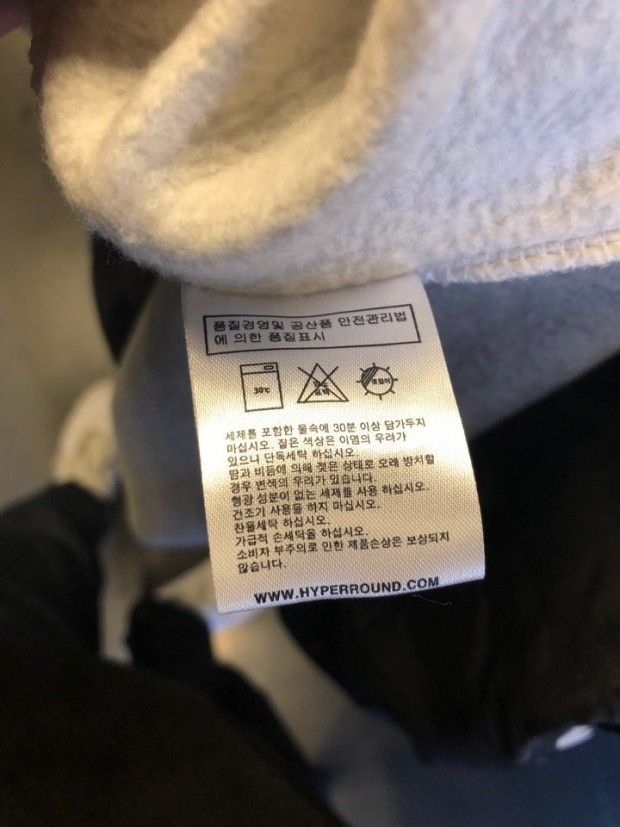KR_hang_dry_in_shade: (352, 359, 402, 404)
KR_no_chlorine_bleach: (292, 356, 350, 408)
KR_wash_warm_30_neutral: (235, 358, 286, 415)
